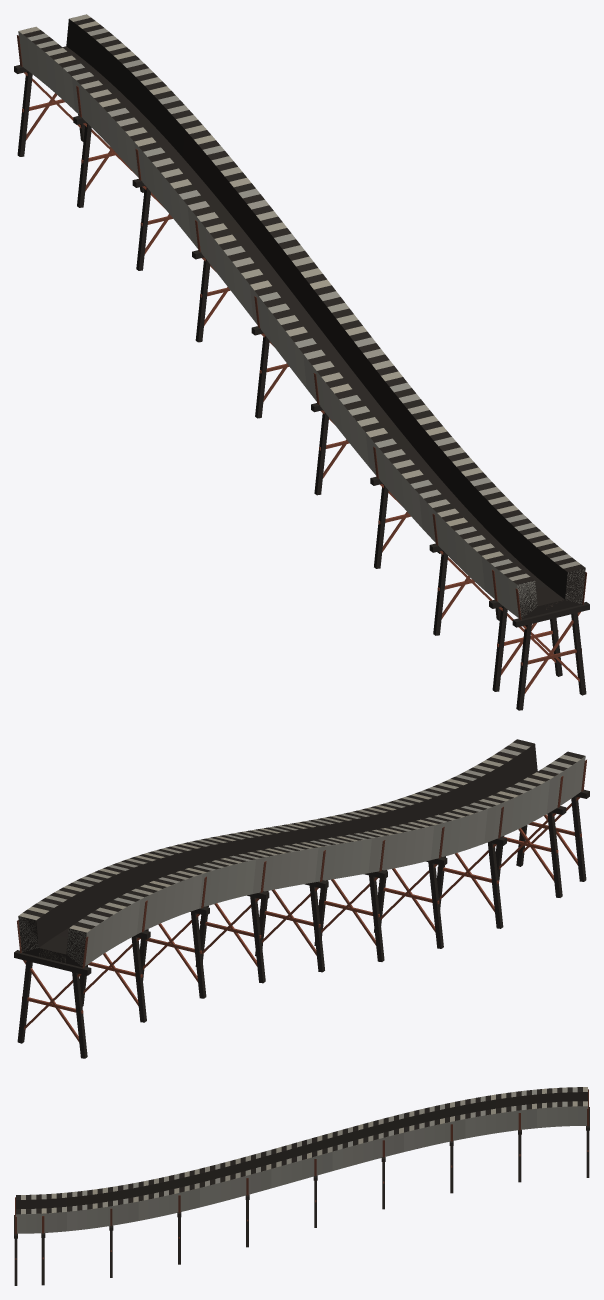
Rendered from flume_siphon_span.glb.
The picture shows the model from 3 angles, top to bottom: view 1: azimuth 30°, elevation 25°; view 2: azimuth 150°, elevation 25°; view 3: azimuth 270°, elevation 25°; orthographic projection. The views are drawn at different scales.
Visible parts, largest first — view 1: flume_siphon_span-col-col, flume_siphon_span_body; view 2: flume_siphon_span_body, flume_siphon_span-col-col; view 3: flume_siphon_span_body, flume_siphon_span-col-col.
Boxes of the visible parts, <box> form: flume_siphon_span-col-col: <box>14,17,589,710</box>; flume_siphon_span_body: <box>17,14,586,693</box>; flume_siphon_span_body: <box>17,742,586,1042</box>; flume_siphon_span-col-col: <box>14,739,589,1058</box>; flume_siphon_span_body: <box>15,1087,588,1259</box>; flume_siphon_span-col-col: <box>14,1087,589,1285</box>.
Size of the model in its own units: 8.6 by 35.03 by 102.
